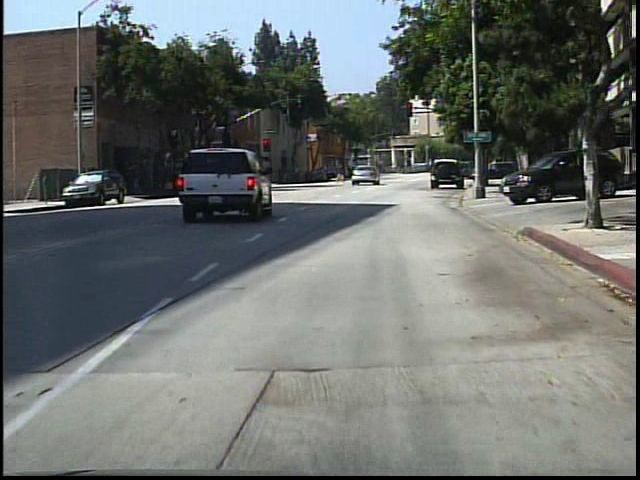person: (487, 157, 502, 183), (335, 165, 348, 185)
